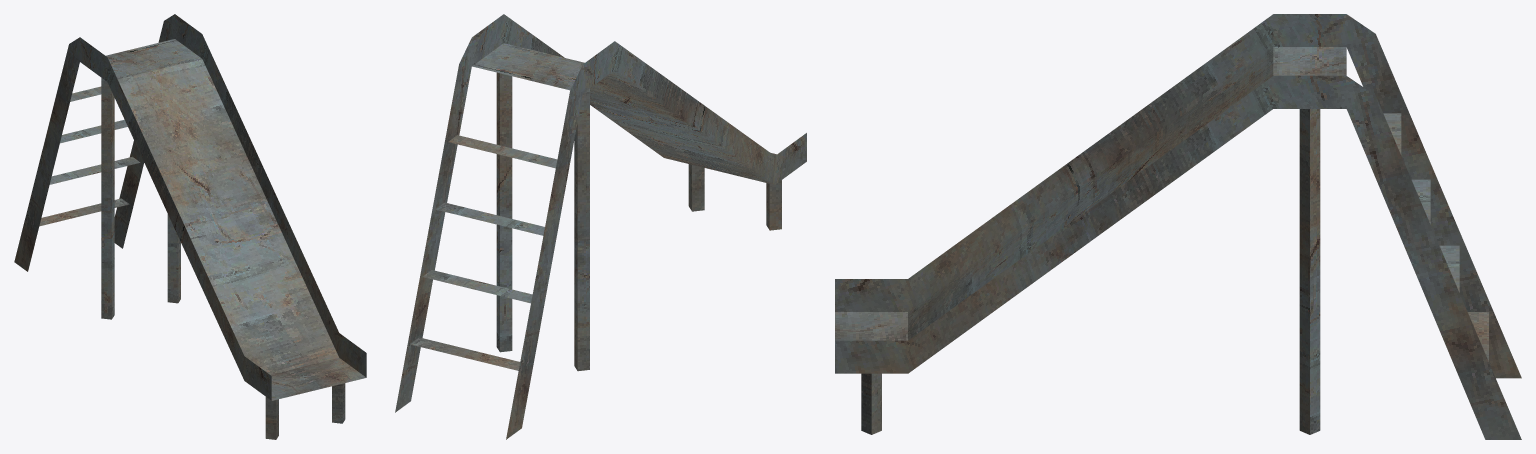
File: slide.glb
3 views of the same model, side by side, from view 1: azimuth 30°, elevation 25°; view 2: azimuth 150°, elevation 25°; view 3: azimuth 270°, elevation 25° (orthographic). The views are drawn at different scales.
Visible parts, largest first — view 1: Cube; view 2: Cube; view 3: Cube.
Boxes of the visible parts, <box> form: Cube: <box>14,14,366,439</box>; Cube: <box>395,14,806,439</box>; Cube: <box>835,14,1521,439</box>.
Bounding box in the file's own units: 2 × 5.5 × 9.4.
Materials: 2 (2 with a texture image).
